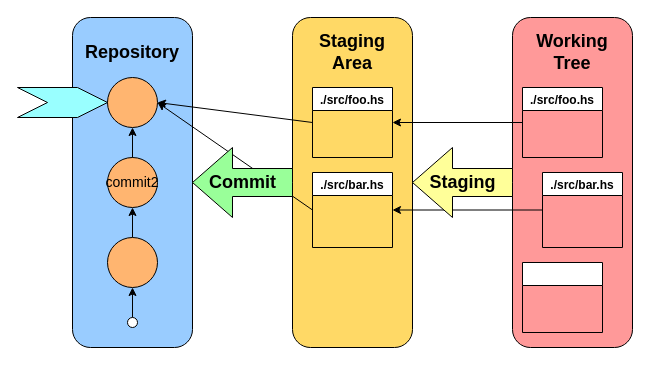
Some shapes in this 650 by 365 pixel diagram are drawn without their labels. Each missing label, with the centre of its shape:
"./test/foo.hs" goes at [562,297].
"commit1" goes at [132,262].
"commit3" goes at [132,102].
"HEAD" goes at [62,102].
